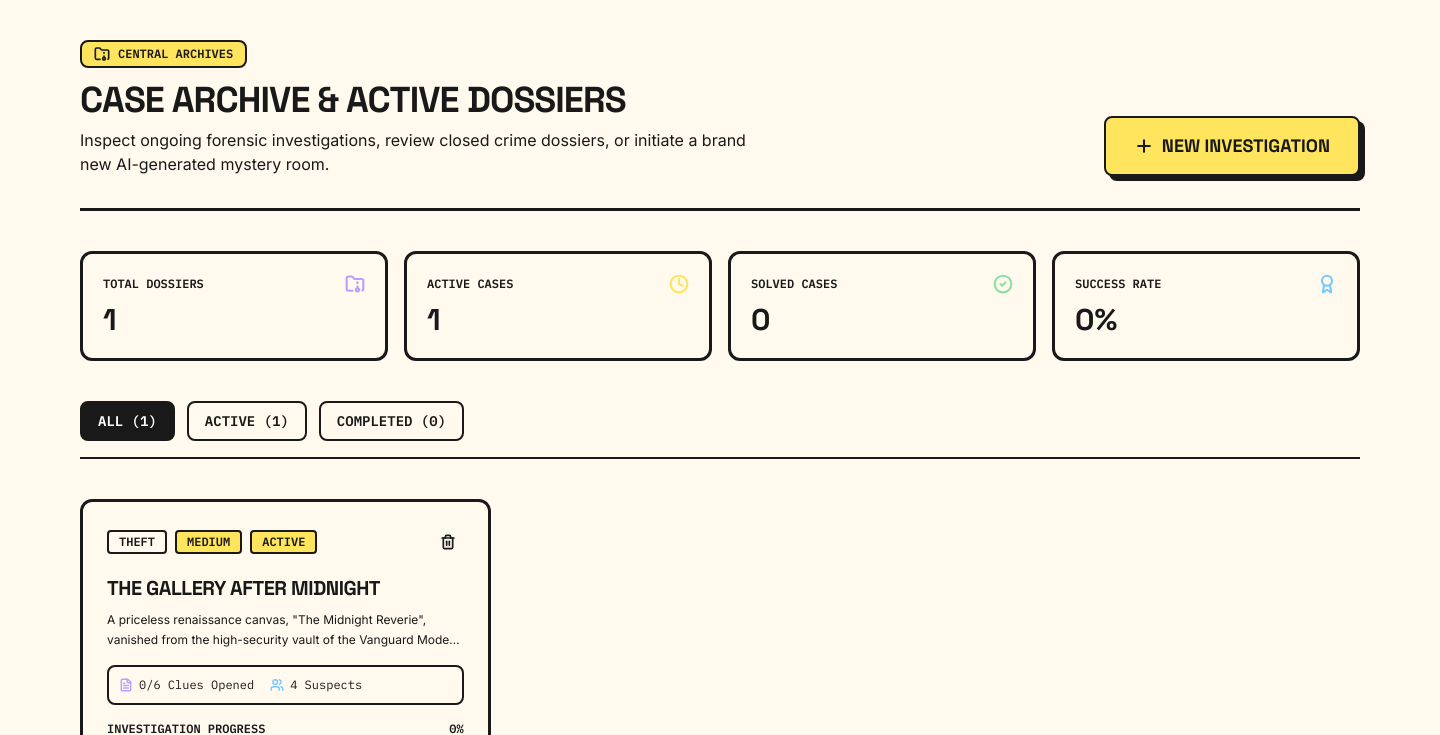
Test case: DashboardPage Component › switches between filter tabs and displays corresponding cases or empty state
Expected: the heading "The Gallery After Midnight" is shown, [107,575,380,601]
# Click "COMPLETED" tab
Click the button "COMPLETED (0)": (392, 421) [319,401,464,441]
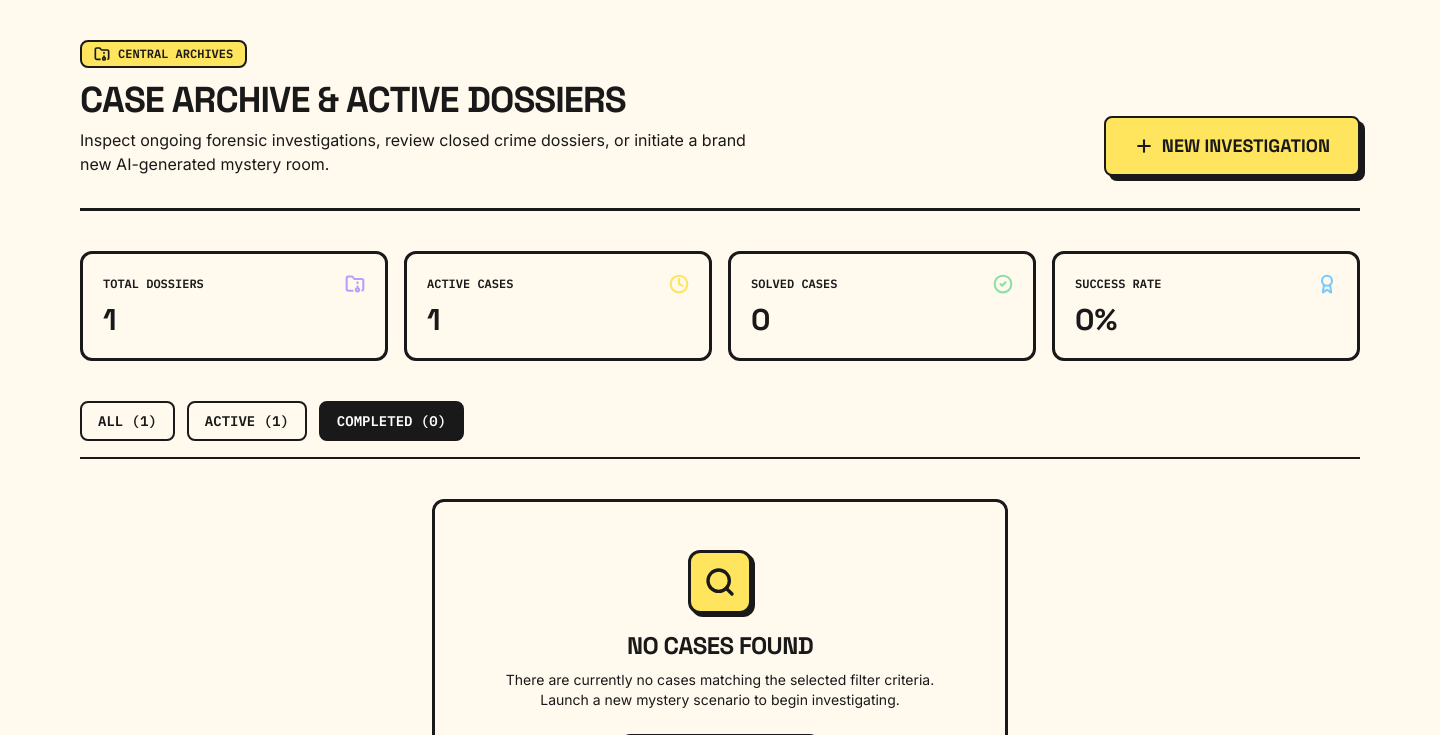
Result: the heading "NO CASES FOUND" is shown at [627,630,813,661]
# Click "ACTIVE" tab
Click the button "ACTIVE (1)": (247, 421) [187,401,307,441]
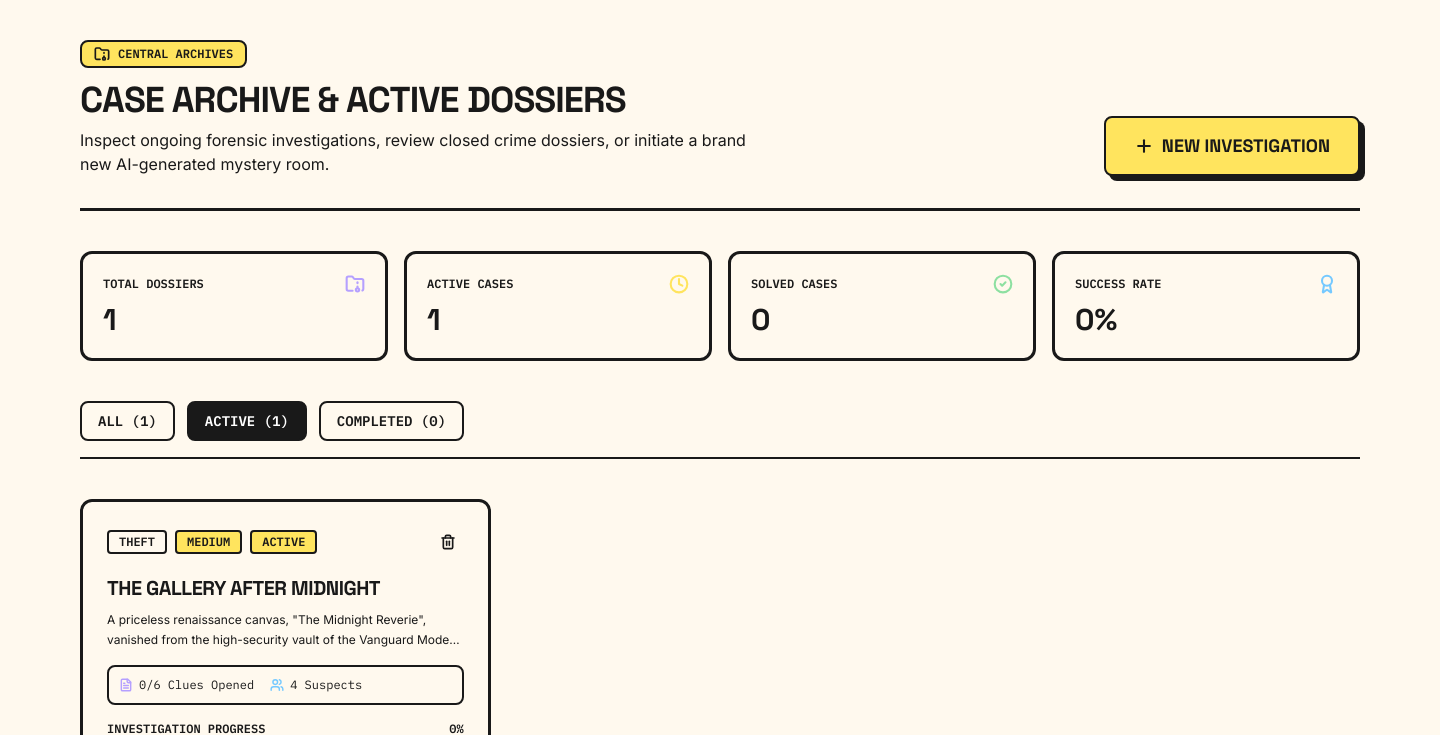
Result: the heading "The Gallery After Midnight" is shown at [107,575,380,601]
